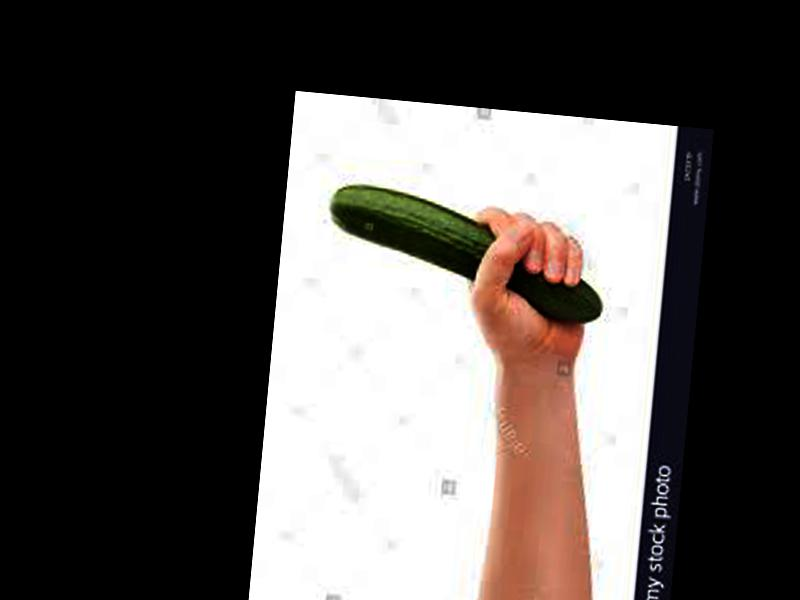Cucumber: (323, 181, 610, 322)
